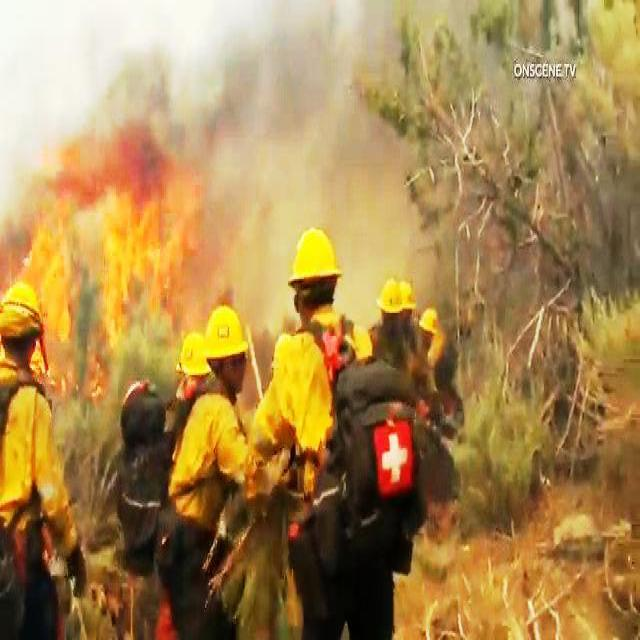Fire: (33, 134, 214, 291)
